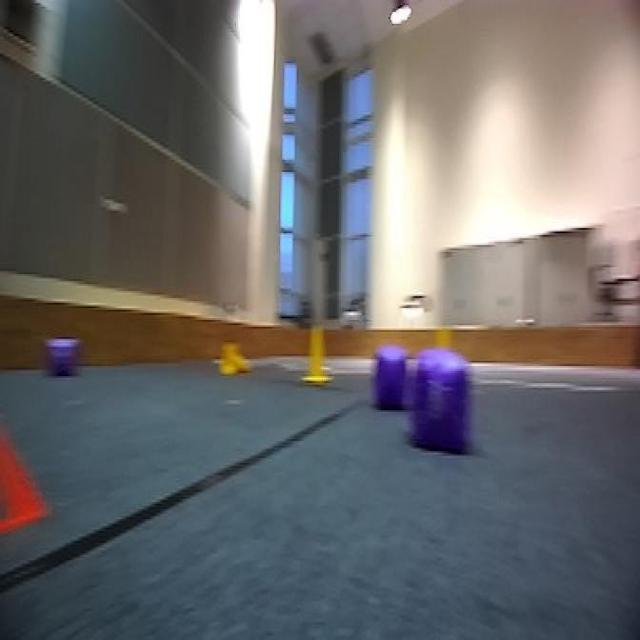frc_cone: (302, 322, 333, 384), (216, 338, 252, 379)
frc_cube: (408, 356, 472, 446), (45, 334, 77, 384), (375, 359, 406, 404)
